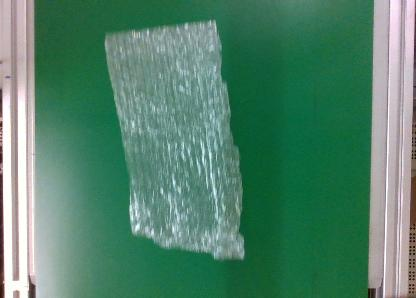Others: (102, 20, 244, 262)
